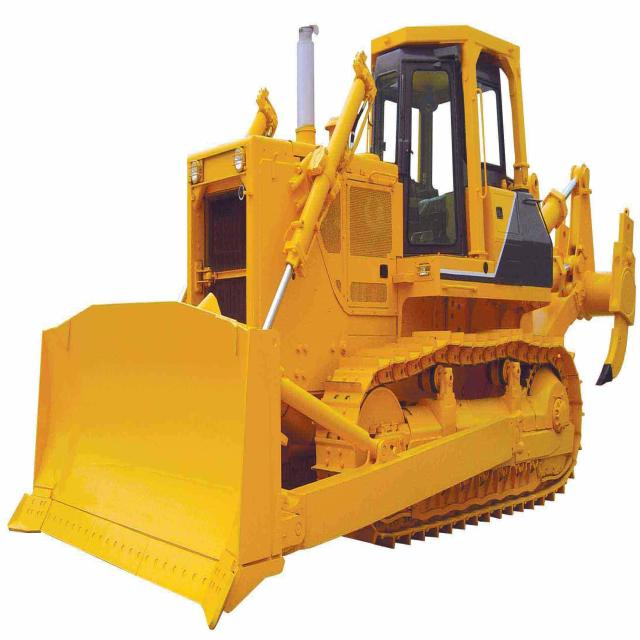buldozerpayloadergrader: (20, 20, 639, 624)
